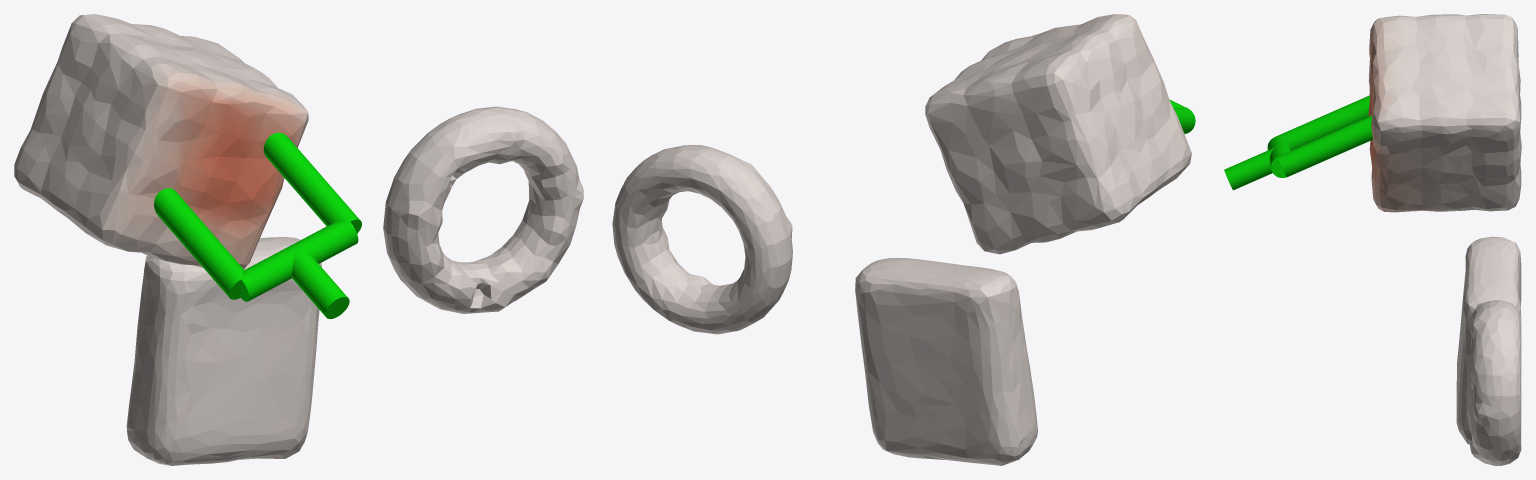
The model's file is round_000_trial_002.obj.
3 views of the same model, side by side, from view 1: azimuth 30°, elevation 25°; view 2: azimuth 150°, elevation 25°; view 3: azimuth 270°, elevation 25° (orthographic). The views are drawn at different scales.
Visible parts, largest first — view 1: geometry_0, geometry_1; view 2: geometry_0; view 3: geometry_0, geometry_1.
Boxes of the visible parts, x1,y1,x2,y2 form: geometry_0: (14,14,583,465); geometry_1: (154,132,361,319); geometry_0: (612,14,1191,465); geometry_0: (1368,14,1521,465); geometry_1: (1224,95,1372,190).
Size of the model in its own units: 0.2186 by 0.177 by 0.1311.
